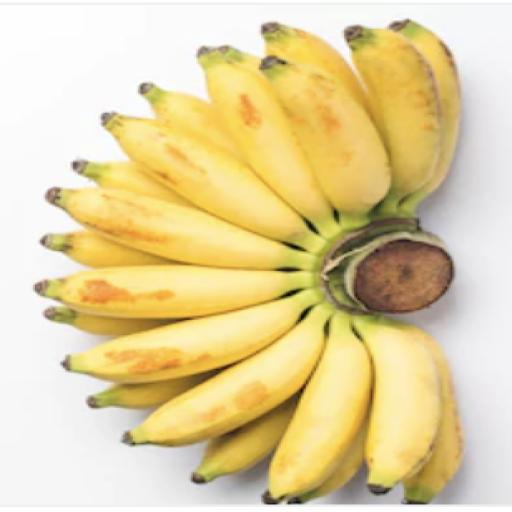banana: (105, 115, 325, 252), (124, 303, 334, 445), (198, 49, 339, 238), (65, 289, 322, 382), (261, 57, 390, 229), (47, 189, 317, 269), (270, 312, 372, 500), (345, 26, 443, 215), (353, 315, 442, 494), (35, 265, 315, 318), (391, 21, 462, 215), (404, 326, 463, 504), (192, 398, 297, 484), (261, 23, 367, 107), (140, 83, 239, 158), (288, 422, 367, 504), (72, 160, 192, 207), (40, 230, 171, 268), (87, 373, 212, 409), (44, 307, 171, 336), (218, 46, 262, 71)
